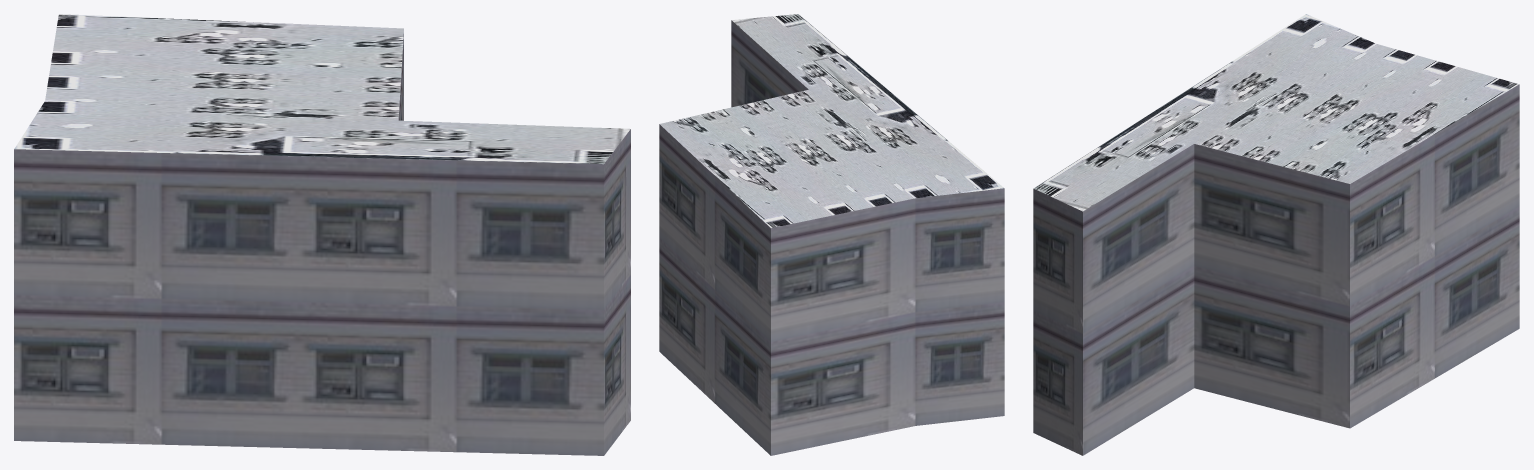
Rendered from ResTex__3068.fbx.
The picture shows the model from 3 angles, left to right: view 1: azimuth 30°, elevation 25°; view 2: azimuth 150°, elevation 25°; view 3: azimuth 270°, elevation 25°; orthographic projection. The views are drawn at different scales.
Visible parts, largest first — view 1: CityEngineMaterial_1_m, CityEngineMaterial_m; view 2: CityEngineMaterial_1_m, CityEngineMaterial_m; view 3: CityEngineMaterial_1_m, CityEngineMaterial_m.
Part boxes in pixels (left/top/right/bottom): CityEngineMaterial_1_m: left=14, top=34, right=630, bottom=455; CityEngineMaterial_m: left=14, top=14, right=630, bottom=164; CityEngineMaterial_1_m: left=659, top=20, right=1004, bottom=455; CityEngineMaterial_m: left=660, top=14, right=1003, bottom=228; CityEngineMaterial_1_m: left=1033, top=84, right=1519, bottom=455; CityEngineMaterial_m: left=1034, top=14, right=1518, bottom=211.
Size of the model in its own units: 10.4 by 6 by 10.82.
Materials: 2 (2 with a texture image).
